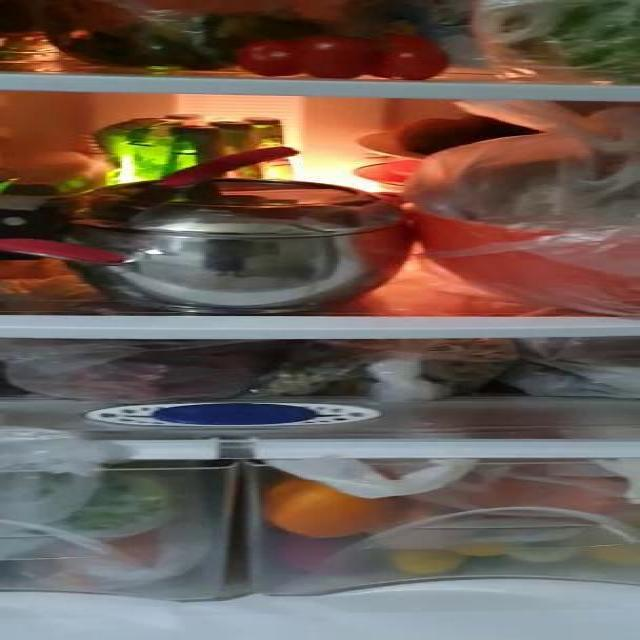lemon: (387, 547, 470, 573)
lettuce: (516, 0, 640, 79)
mineral water: (118, 114, 285, 175)
orange: (265, 477, 404, 535)
tomatoes: (246, 30, 449, 79)
